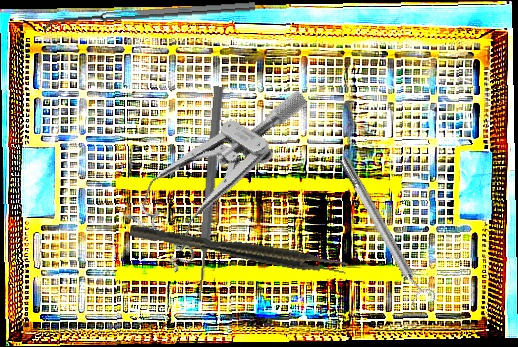Fixation Ring: (332, 151, 438, 312)
Pusher: (192, 85, 226, 303)
Spatula Surgical: (43, 2, 256, 34)
Speculum: (113, 47, 311, 287)
Tissue Forceps: (129, 218, 349, 279)
